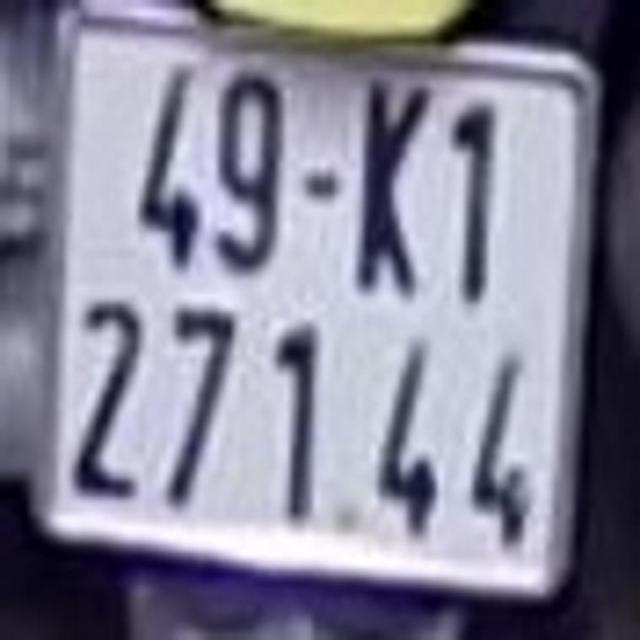1: (276, 314, 328, 524), (446, 94, 495, 302)
2: (74, 304, 143, 498)
4: (140, 63, 200, 267), (472, 345, 532, 546), (381, 331, 438, 535)
7: (168, 296, 238, 514)
9: (218, 64, 285, 277)
K: (364, 74, 422, 297)
